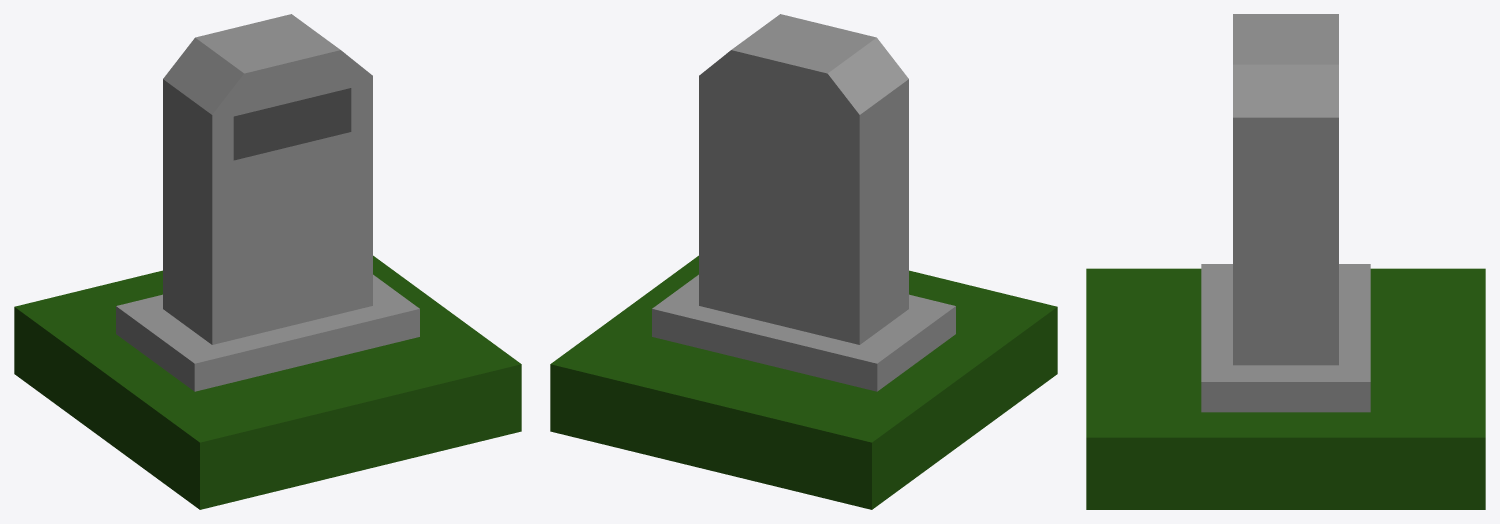
The model's file is Grave_Block.fbx.
The picture shows the model from 3 angles, left to right: view 1: azimuth 30°, elevation 25°; view 2: azimuth 150°, elevation 25°; view 3: azimuth 270°, elevation 25°; orthographic projection. The views are drawn at different scales.
Visible parts, largest first — view 1: Grave_Block; view 2: Grave_Block; view 3: Grave_Block.
Part boxes in pixels (left/top/right/bottom): Grave_Block: left=14, top=14, right=521, bottom=509; Grave_Block: left=550, top=14, right=1057, bottom=509; Grave_Block: left=1086, top=14, right=1485, bottom=509.
Size of the model in its own units: 5 by 5.33 by 5.
